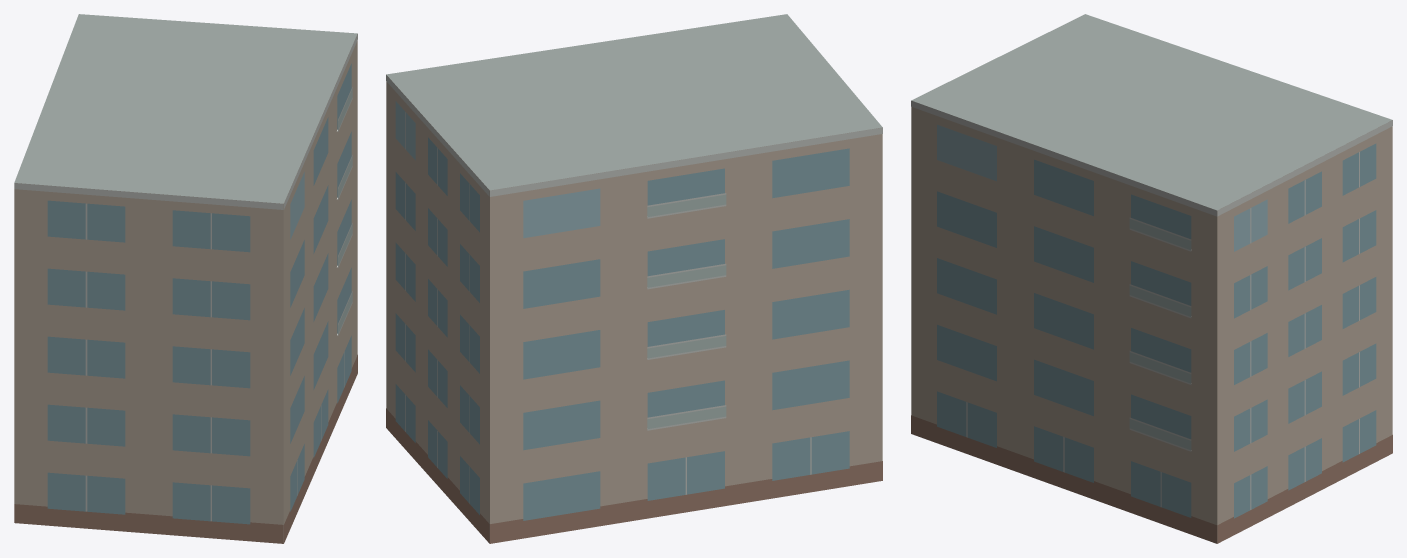
The model's file is survey-upis-32893362.glb.
3 views of the same model, side by side, from view 1: azimuth 30°, elevation 25°; view 2: azimuth 150°, elevation 25°; view 3: azimuth 270°, elevation 25° (orthographic). The views are drawn at different scales.
Parts seen in each view (by area): view 1: survey-upis-32893362.tmp; view 2: survey-upis-32893362.tmp; view 3: survey-upis-32893362.tmp.
Part boxes in pixels (x1,y1,x2,y2): survey-upis-32893362.tmp: [14, 14, 357, 543]; survey-upis-32893362.tmp: [386, 14, 882, 543]; survey-upis-32893362.tmp: [911, 14, 1392, 543].
Size of the model in its own units: 16.69 by 13.2 by 17.29.
